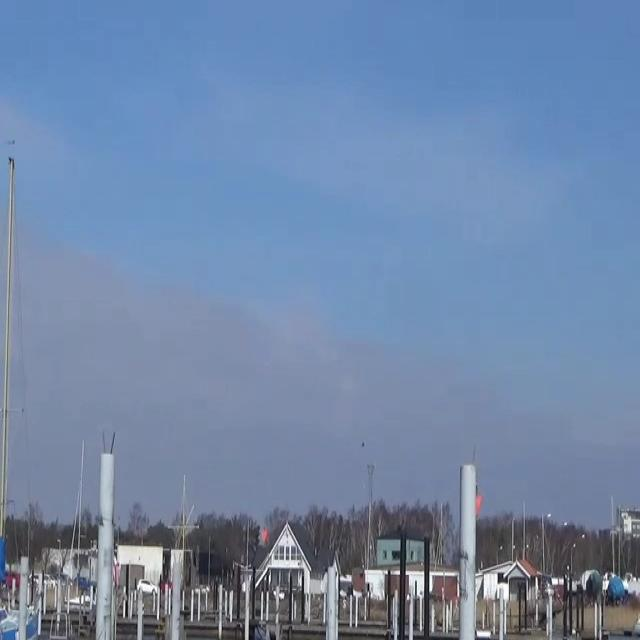bird: (359, 438, 368, 453)
